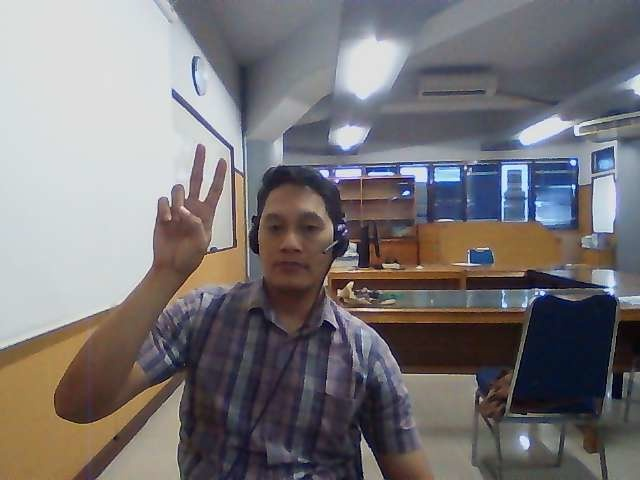Peace: (153, 143, 229, 270)
